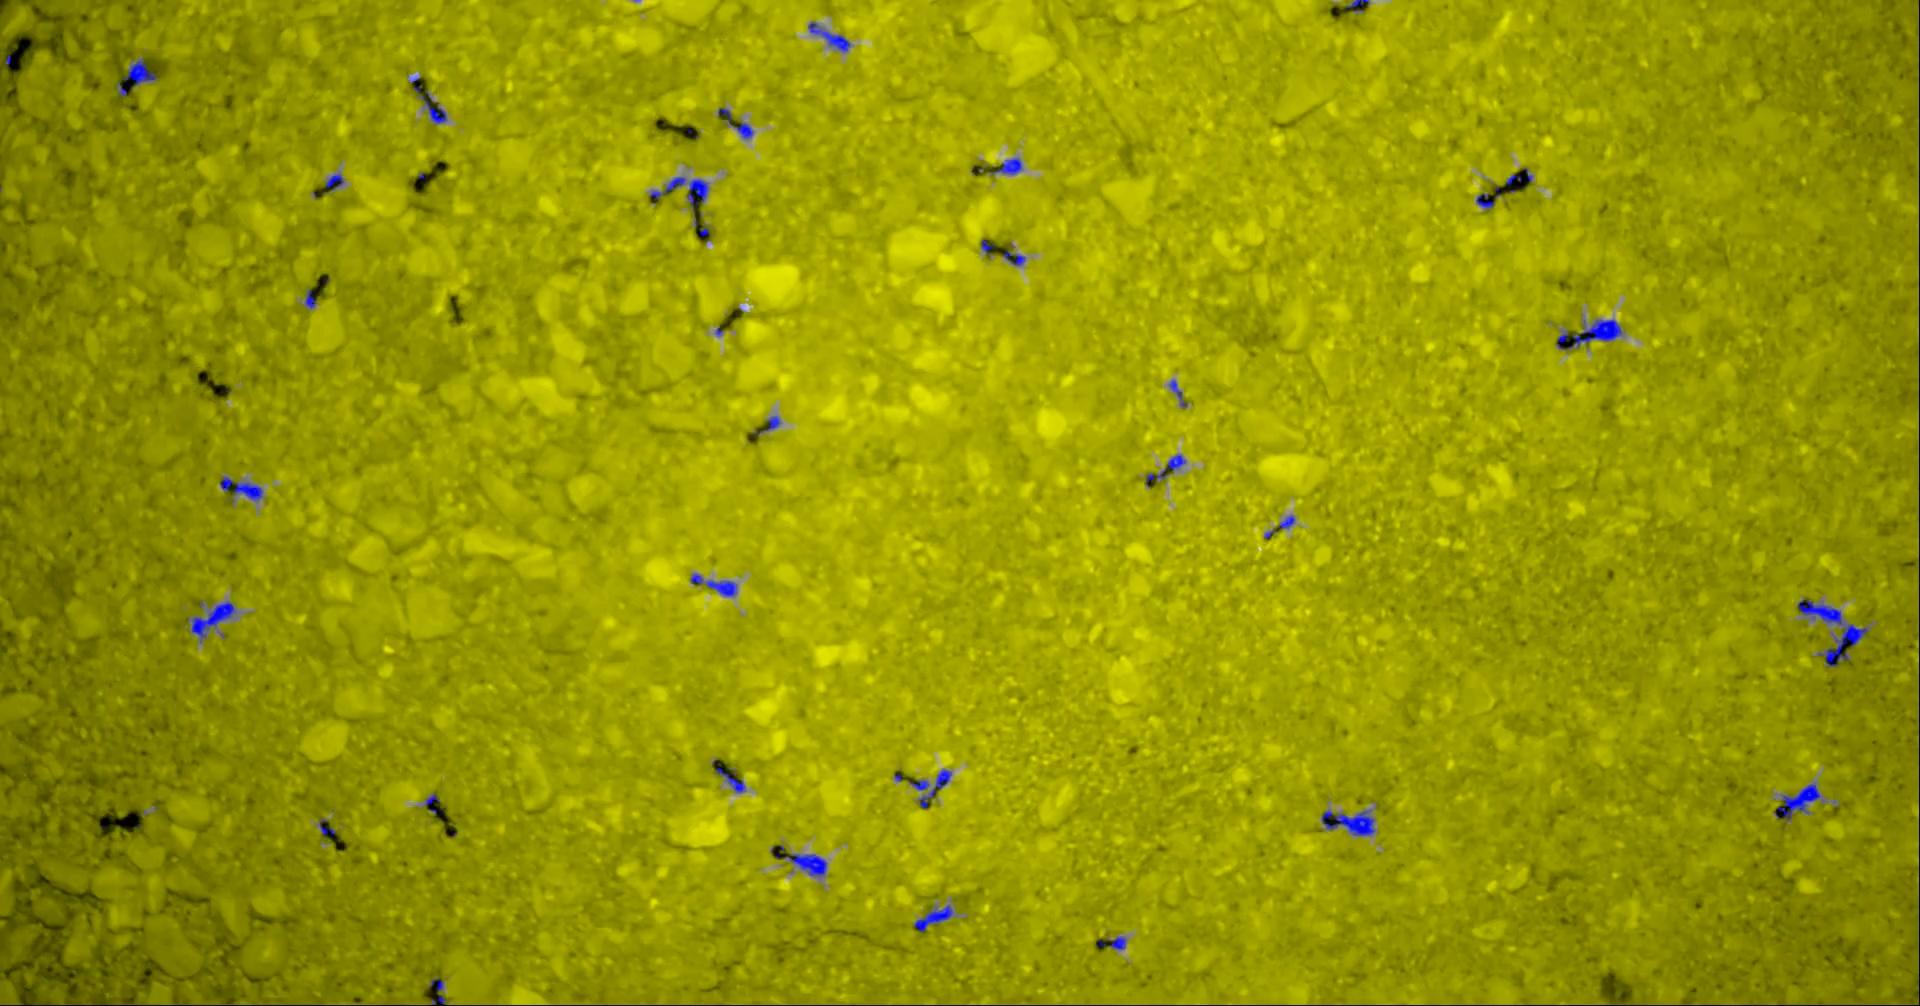ant: (1556, 319, 1622, 349), (185, 601, 235, 641), (649, 177, 707, 208), (1774, 782, 1820, 821), (909, 768, 951, 807), (411, 77, 446, 123), (1321, 809, 1374, 835), (808, 22, 850, 51), (775, 854, 825, 875), (690, 573, 737, 596), (913, 904, 952, 931), (218, 476, 262, 500), (122, 58, 157, 85), (714, 766, 744, 793), (988, 158, 1021, 174), (750, 415, 780, 433), (1170, 379, 1186, 406), (1145, 467, 1167, 486), (429, 978, 444, 1005), (1002, 249, 1025, 265), (1166, 453, 1185, 470), (734, 122, 752, 138), (325, 174, 343, 191), (1343, 0, 1368, 11), (1476, 193, 1495, 207), (319, 819, 335, 835), (1277, 514, 1294, 528), (1107, 936, 1125, 949), (980, 239, 993, 255), (305, 290, 316, 307)
